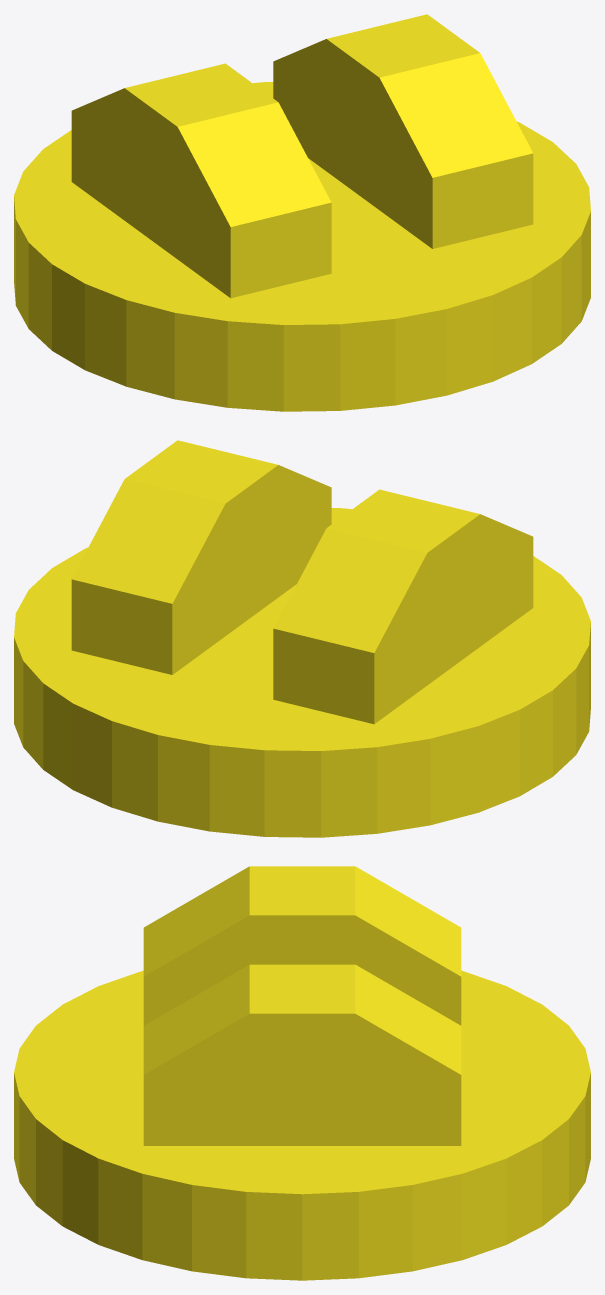
File: rotativebase.glb
The picture shows the model from 3 angles, top to bottom: view 1: azimuth 30°, elevation 25°; view 2: azimuth 150°, elevation 25°; view 3: azimuth 270°, elevation 25°; orthographic projection.
Parts seen in each view (by area): view 1: Cylinder; view 2: Cylinder; view 3: Cylinder.
Part boxes in pixels (x1,y1,x2,y2): Cylinder: (14,14,590,411); Cylinder: (14,440,590,837); Cylinder: (14,866,590,1280).
Size of the model in its own units: 11.89 by 4.97 by 11.89.
